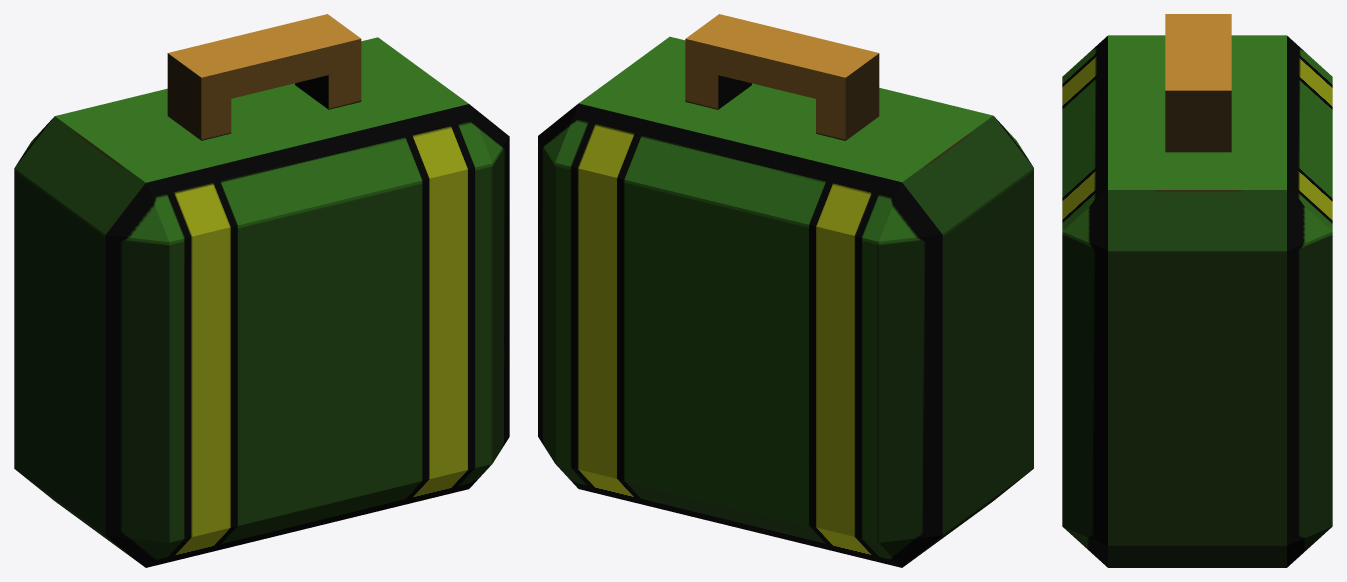
File: Maleta.fbx
3 renders of one model, left to right at view 1: azimuth 30°, elevation 25°; view 2: azimuth 150°, elevation 25°; view 3: azimuth 270°, elevation 25°, orthographic. The views are drawn at different scales.
Parts seen in each view (by area): view 1: Cube; view 2: Cube; view 3: Cube.
Boxes of the visible parts, x1,y1,x2,y2 form: Cube: (14,14,509,567); Cube: (538,14,1033,567); Cube: (1062,14,1332,567).
Bounding box in the file's own units: 200 × 212 × 118.
Materials: 1 (1 with a texture image).
